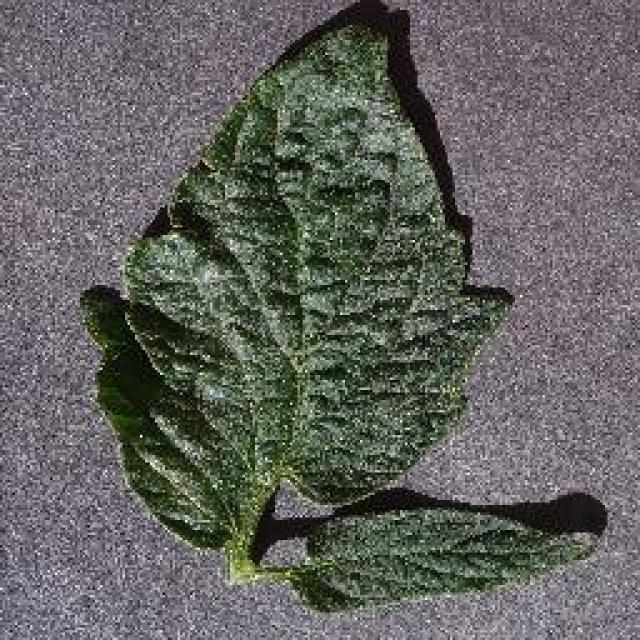Healthy: (75, 0, 613, 630)
